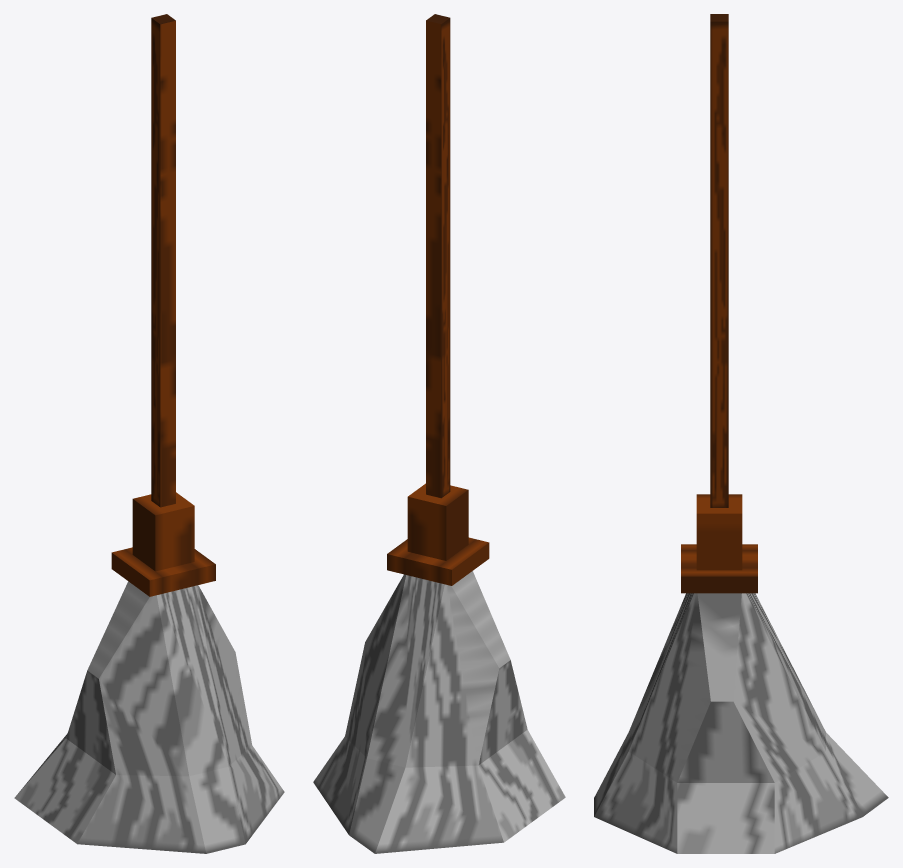
The model's file is Mop.fbx.
3 views of the same model, side by side, from view 1: azimuth 30°, elevation 25°; view 2: azimuth 150°, elevation 25°; view 3: azimuth 270°, elevation 25° (orthographic). The views are drawn at different scales.
Visible parts, largest first — view 1: Cube; view 2: Cube; view 3: Cube.
Part boxes in pixels (x1=…): Cube: x1=14, y1=14, x2=284, y2=853; Cube: x1=313, y1=14, x2=565, y2=853; Cube: x1=594, y1=14, x2=888, y2=853.
Bounding box in the file's own units: 216 × 778 × 263.
1 material, 1 textured.
